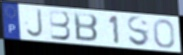1: (108, 15, 120, 45)
B: (72, 11, 99, 43), (48, 9, 73, 41)
J: (25, 8, 45, 39)
O: (152, 19, 177, 50)
S: (126, 15, 151, 49)
